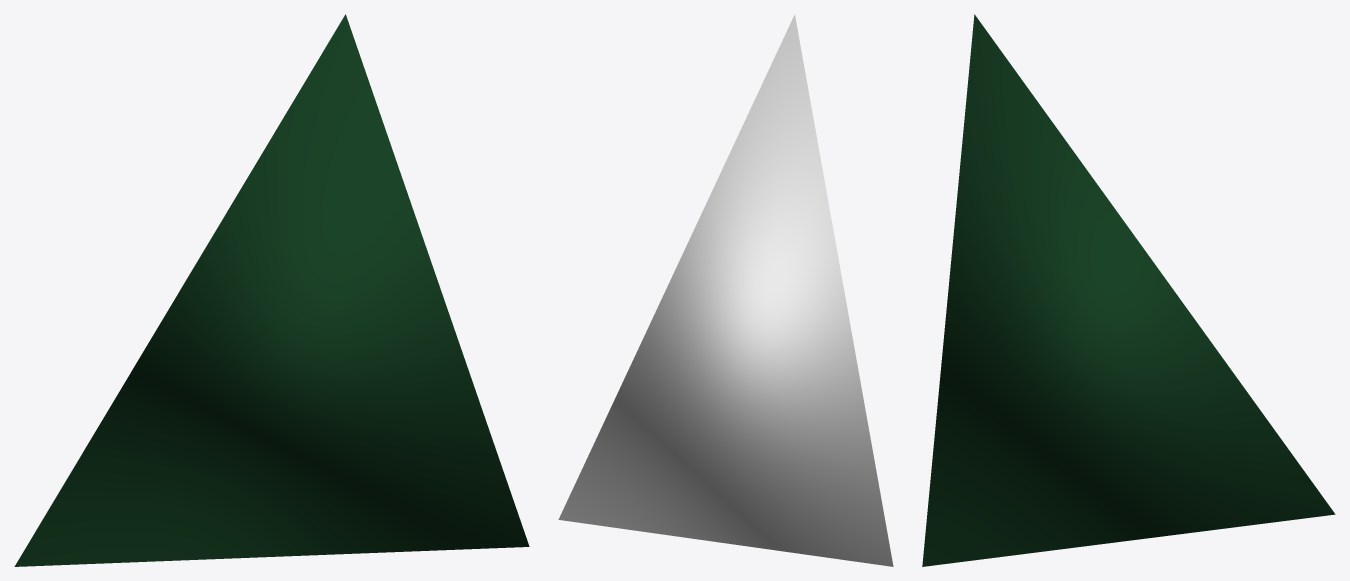
File: pine3Snow_distant.glb
The picture shows the model from 3 angles, left to right: view 1: azimuth 30°, elevation 25°; view 2: azimuth 150°, elevation 25°; view 3: azimuth 270°, elevation 25°; orthographic projection. The views are drawn at different scales.
Parts seen in each view (by area): view 1: Cube; view 2: Cube; view 3: Cube.
Part boxes in pixels (<box>): Cube: <box>14,14,529,566</box>; Cube: <box>558,14,893,566</box>; Cube: <box>922,14,1335,566</box>.
Bounding box in the file's own units: 5.8 × 8.28 × 6.12.
